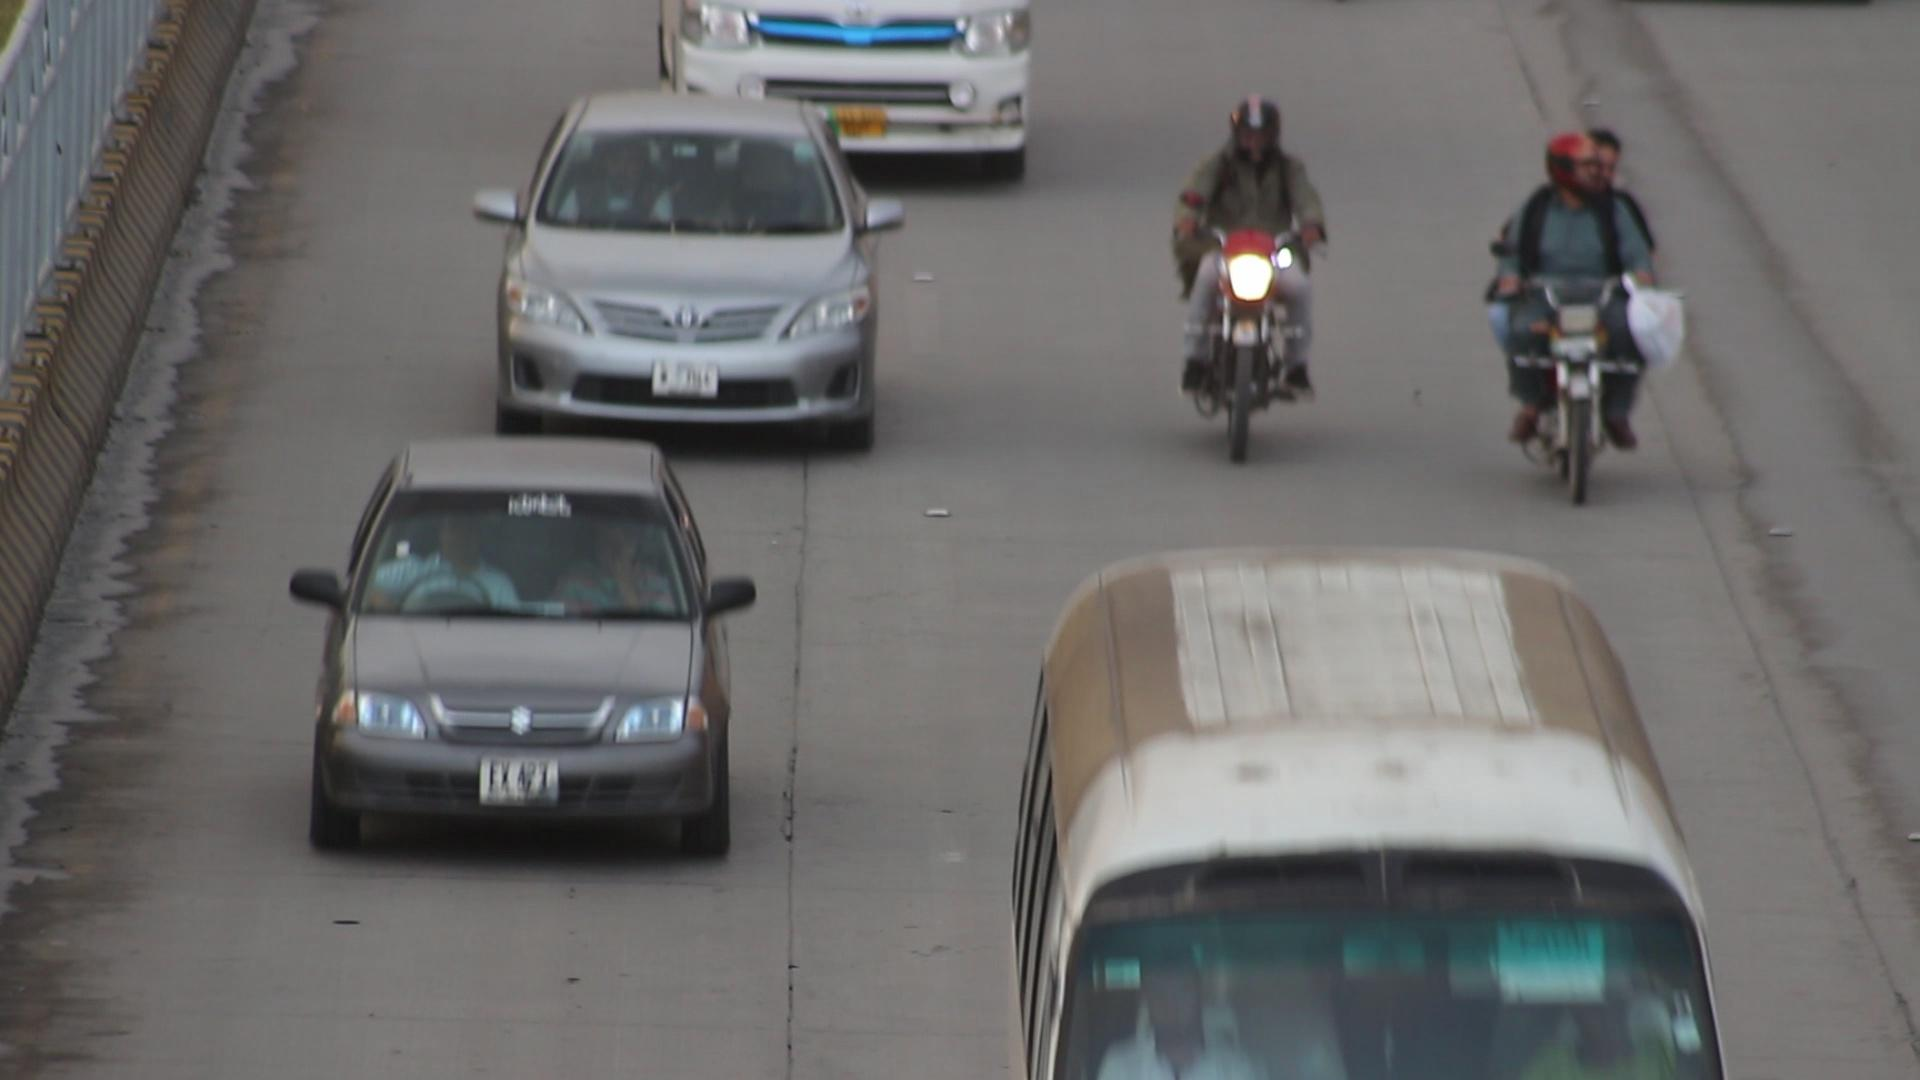windshield: (338, 480, 694, 620), (524, 113, 855, 236)
